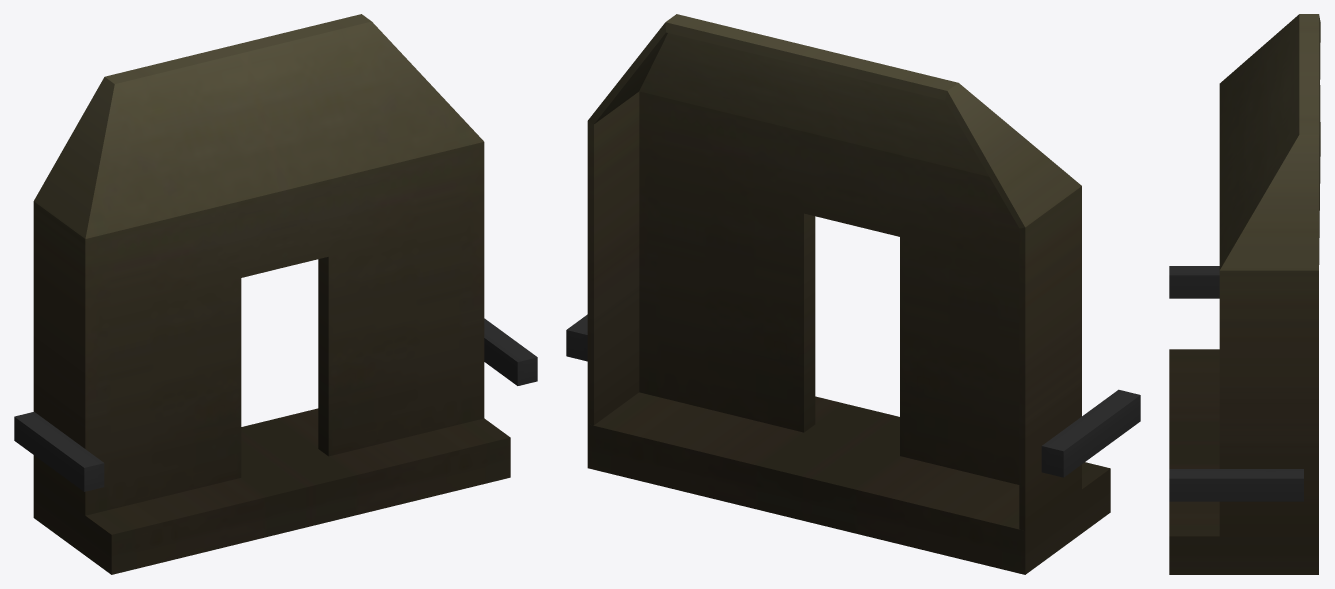
Rendered from train_middle_pb_placeholder_v011 1.fbx.
The picture shows the model from 3 angles, left to right: view 1: azimuth 30°, elevation 25°; view 2: azimuth 150°, elevation 25°; view 3: azimuth 270°, elevation 25°; orthographic projection. The views are drawn at different scales.
Visible parts, largest first — view 1: mittelstück p auf b; view 2: mittelstück p auf b; view 3: mittelstück p auf b.
Part boxes in pixels (bbox=[...]): mittelstück p auf b: bbox=[14, 14, 537, 574]; mittelstück p auf b: bbox=[566, 14, 1140, 574]; mittelstück p auf b: bbox=[1169, 14, 1320, 574].
Size of the model in its own units: 336 by 101 by 300.
Materials: 2 (2 with a texture image).
